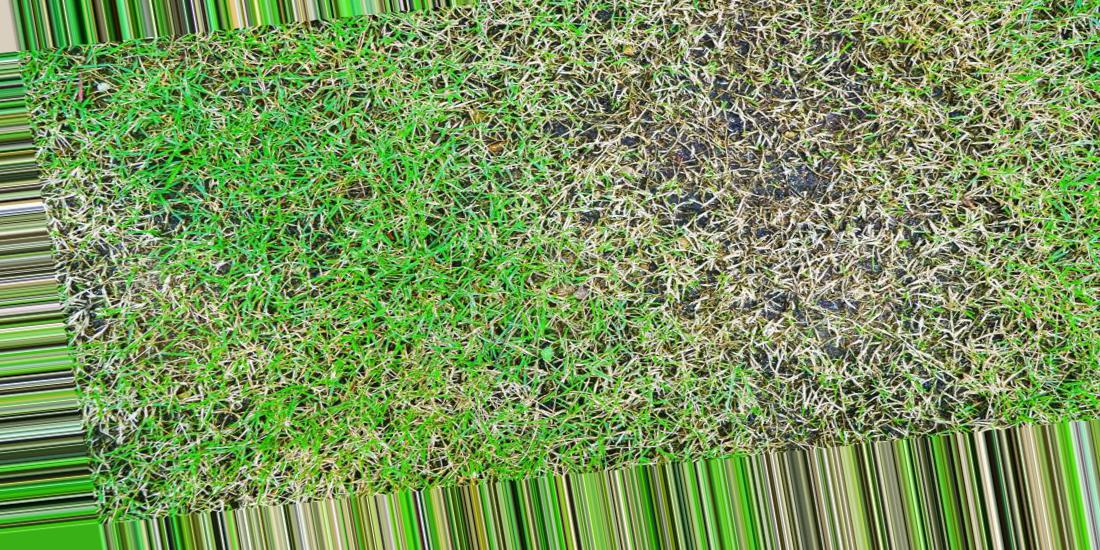patch: (653, 66, 855, 289)
